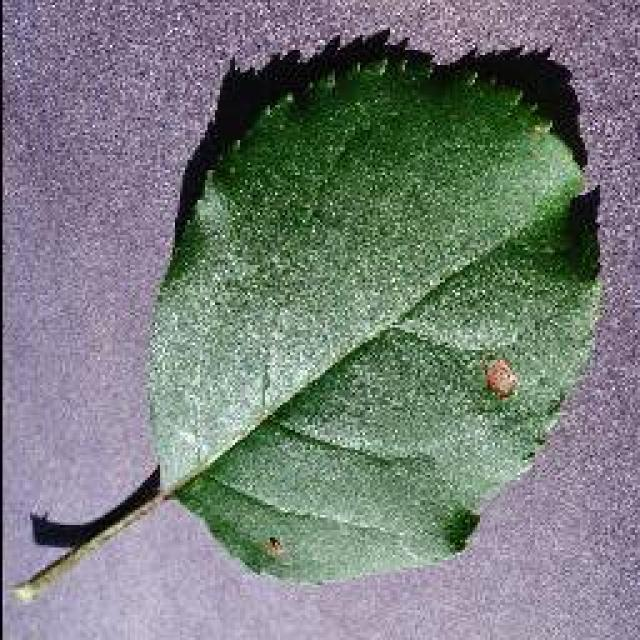Black_rot: (10, 25, 602, 603)
